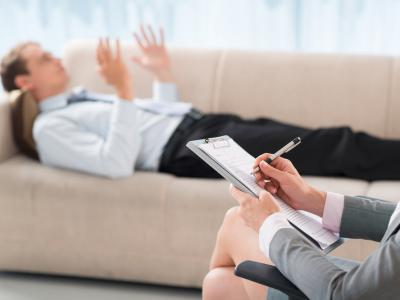Humano: (203, 137, 400, 300), (7, 34, 186, 179)
